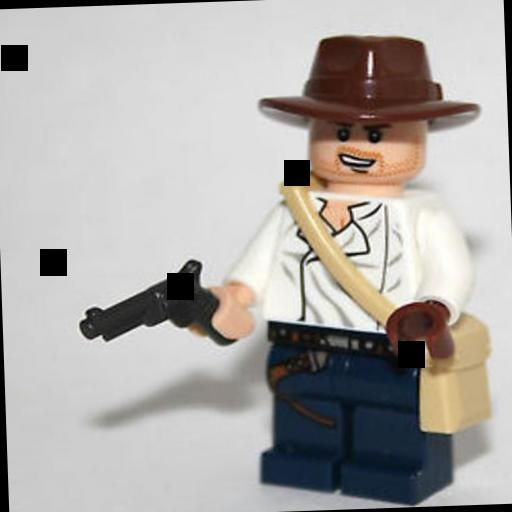Handgun: (68, 256, 241, 354)
